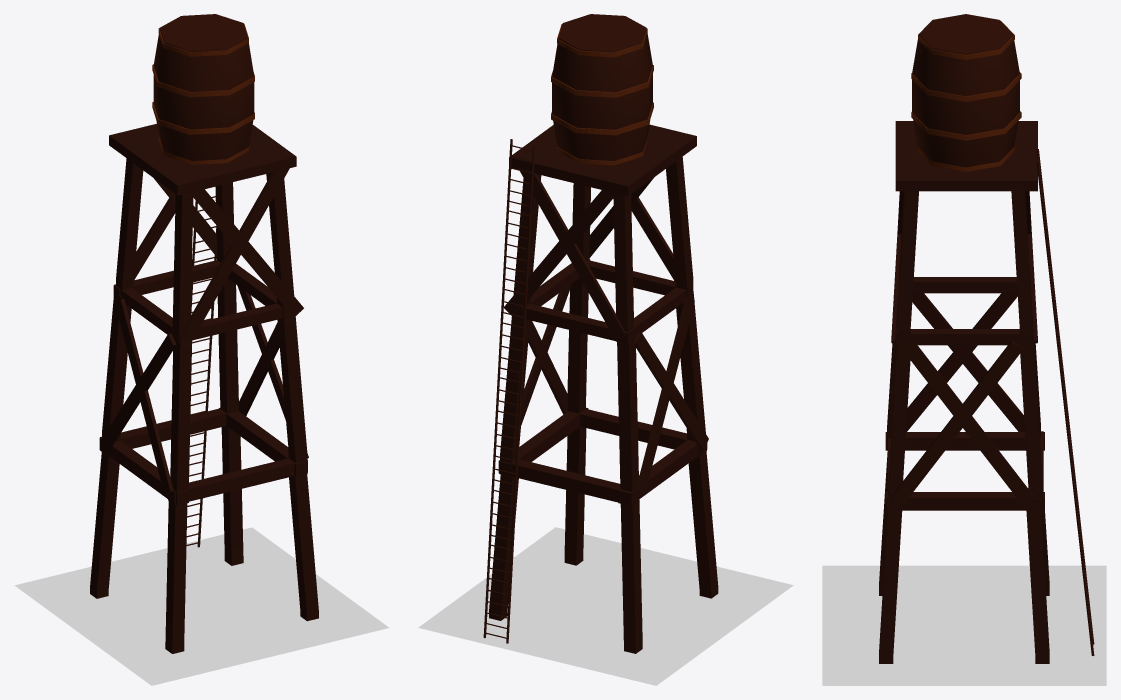
File: Watertower.fbx
3 renders of one model, left to right at view 1: azimuth 30°, elevation 25°; view 2: azimuth 150°, elevation 25°; view 3: azimuth 270°, elevation 25°, orthographic. The views are drawn at different scales.
Visible parts, largest first — view 1: Base, Object001, Barrel, Ledder, Barrel conectors; view 2: Base, Object001, Barrel, Barrel conectors, Ledder; view 3: Base, Object001, Barrel, Ledder, Barrel conectors.
Part boxes in pixels (box(x1,y1,x2,y2)): Base: box(90, 123, 318, 653); Object001: box(14, 527, 388, 685); Barrel: box(153, 14, 254, 160); Ledder: box(152, 23, 254, 164); Barrel conectors: box(186, 186, 216, 547); Base: box(489, 124, 718, 653); Object001: box(418, 527, 793, 685); Barrel: box(552, 14, 652, 160); Barrel conectors: box(483, 139, 535, 643); Ledder: box(551, 23, 653, 165); Base: box(879, 121, 1049, 663); Object001: box(822, 565, 1106, 685); Barrel: box(912, 14, 1019, 167); Ledder: box(911, 20, 1021, 171); Barrel conectors: box(1036, 149, 1094, 655).
Bounding box in the file's own units: 197 × 455 × 197.
